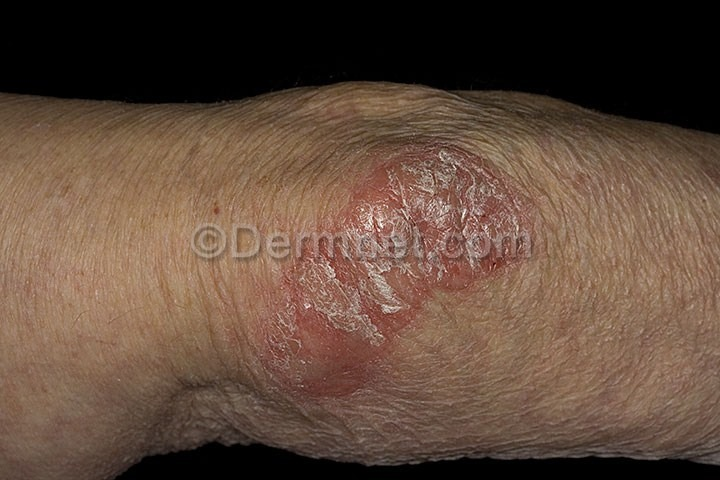Psoriasis: (275, 135, 534, 404)
